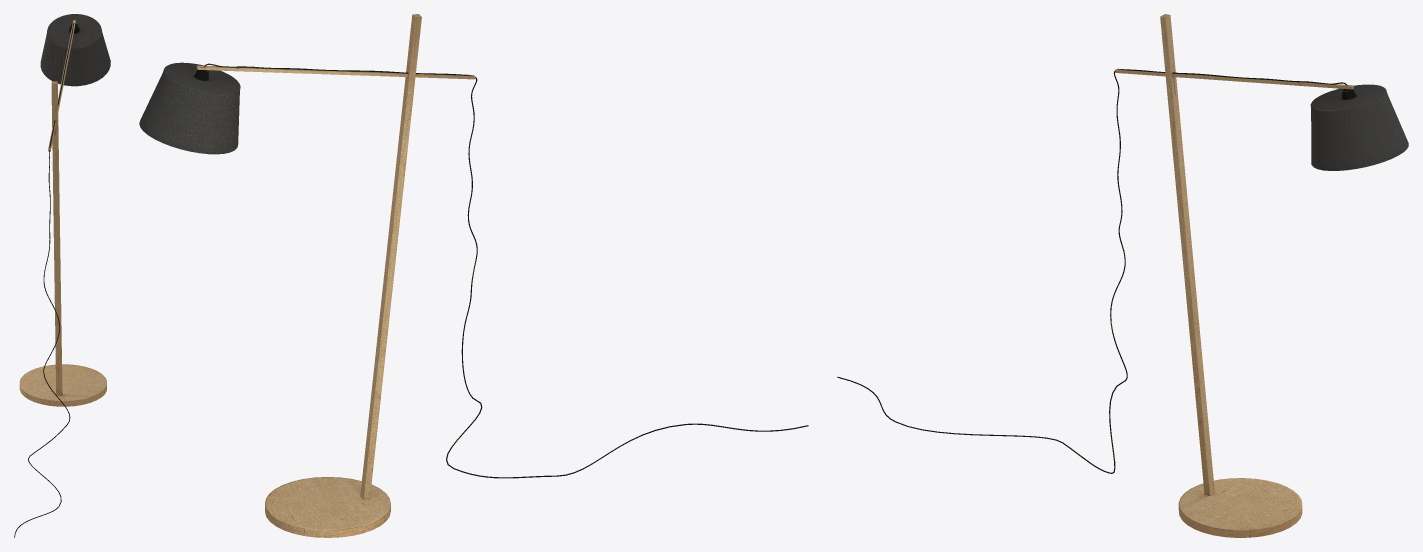
Rendered from lamp.gltf.
3 views of the same model, side by side, from view 1: azimuth 30°, elevation 25°; view 2: azimuth 150°, elevation 25°; view 3: azimuth 270°, elevation 25° (orthographic). The views are drawn at different scales.
Parts seen in each view (by area): view 1: lamp; view 2: lamp; view 3: lamp.
Boxes of the visible parts, <box> form: lamp: <box>14,14,110,537</box>; lamp: <box>139,14,808,537</box>; lamp: <box>837,14,1408,537</box>.
Bounding box in the file's own units: 1.2 × 1.39 × 1.52.
1 material, 1 textured.
